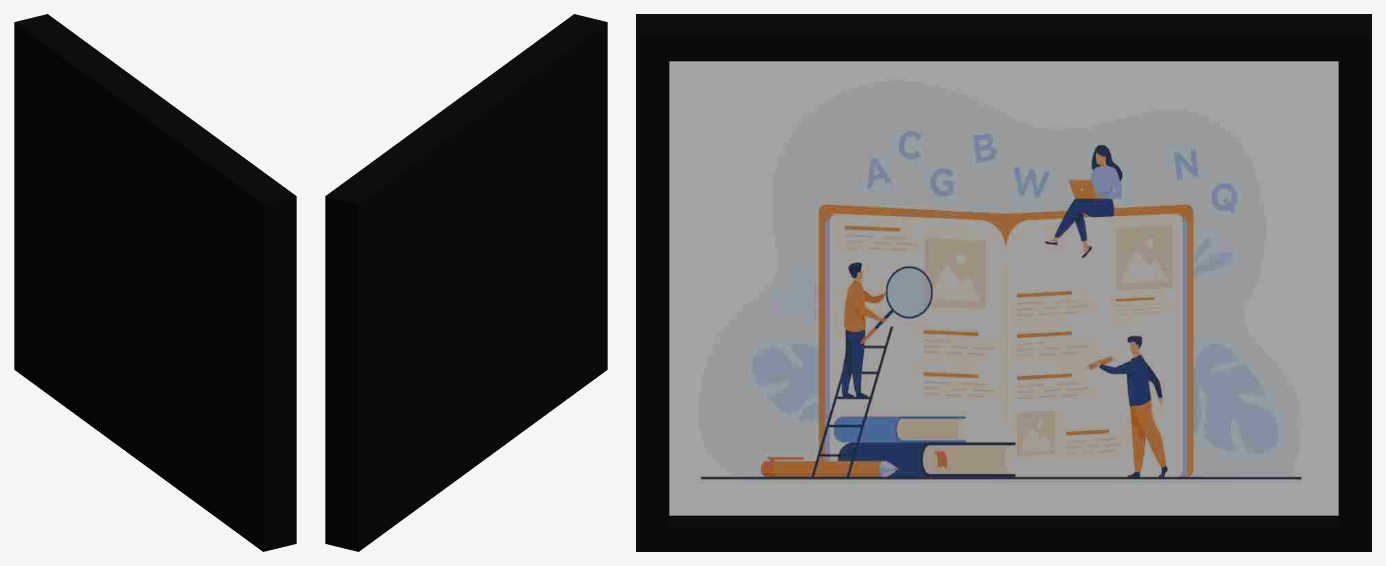
File: Model_Bild.dae
The picture shows the model from 3 angles, left to right: view 1: azimuth 30°, elevation 25°; view 2: azimuth 150°, elevation 25°; view 3: azimuth 270°, elevation 25°; orthographic projection. The views are drawn at different scales.
Parts seen in each view (by area): view 1: Spot_Bild.007; view 2: Spot_Bild.007; view 3: Spot_Bild.007.
Boxes of the visible parts, x1=… form: Spot_Bild.007: x1=14, y1=14, x2=296, y2=551; Spot_Bild.007: x1=325, y1=14, x2=607, y2=551; Spot_Bild.007: x1=636, y1=14, x2=1371, y2=551.
Bounding box in the file's own units: 0.1115 × 1.44 × 1.11.
2 materials, 1 textured.
